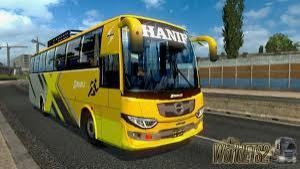bus: (25, 16, 205, 156)
